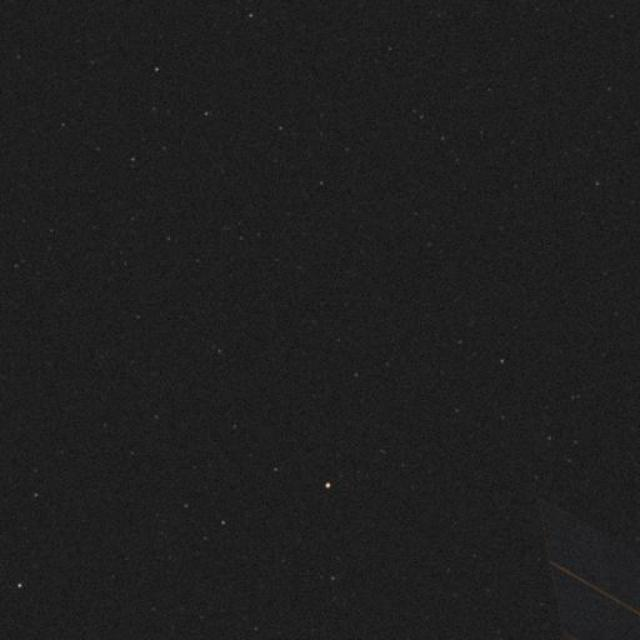soho: (515, 479, 640, 640)
